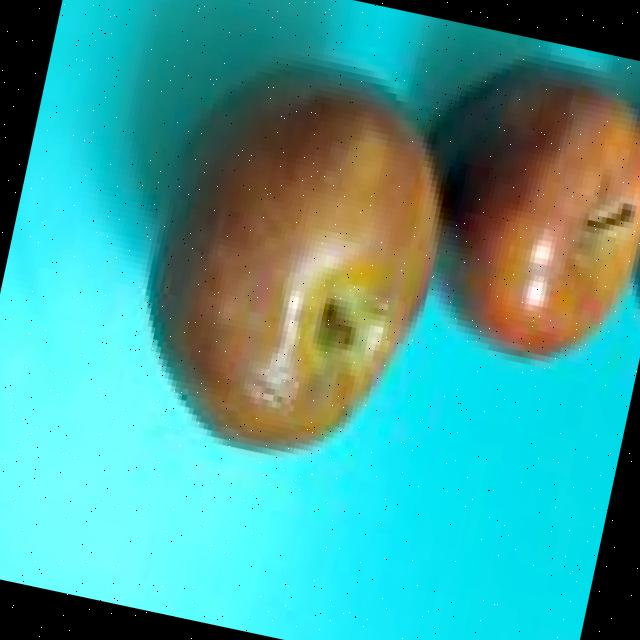Bad_Apple 0-1 day: (154, 64, 640, 450)
